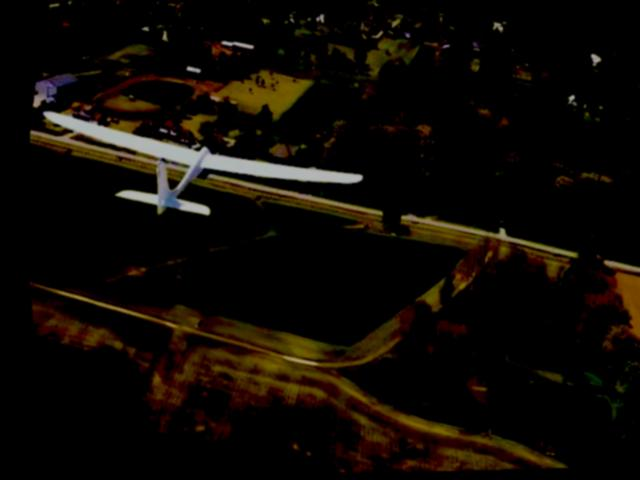iha: (17, 95, 367, 258)
